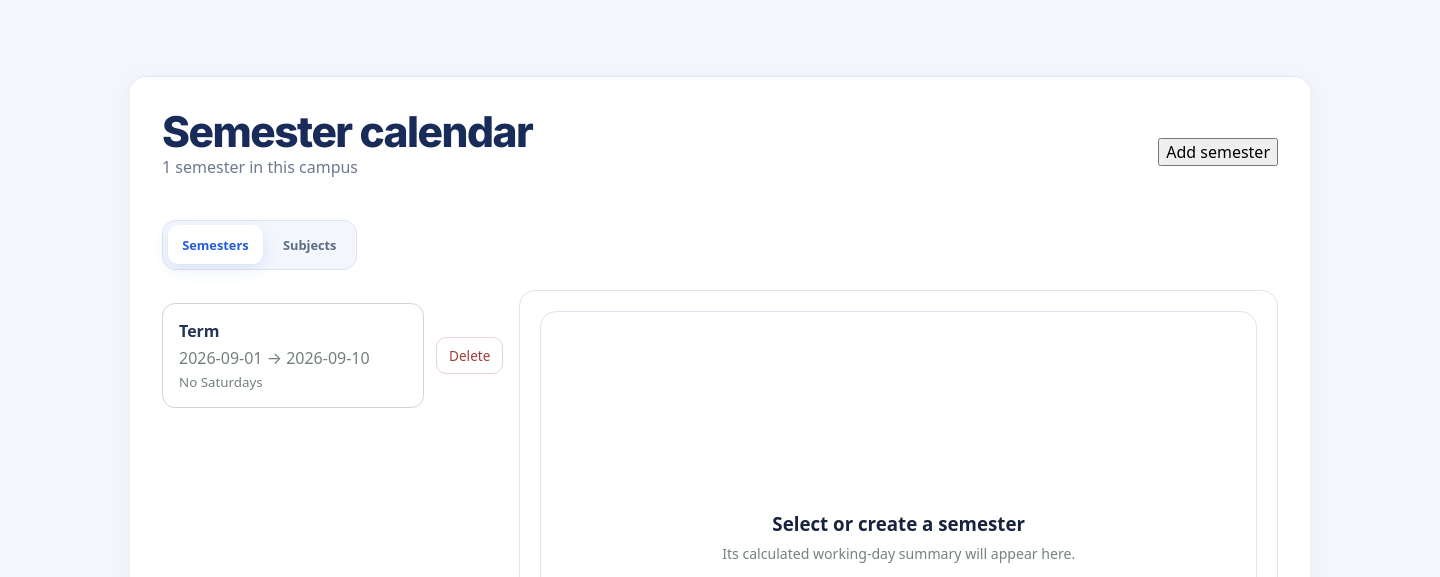
Test: shows all semester dates, including ordinary weekdays after the first eight days
Expected: the text "1 semester in this campus" is shown, 162,156 -> 358,178
Expected: the field labelled "Semester name" is not shown
Click the button "Add semester": (1218, 152) 1158,138 -> 1278,166
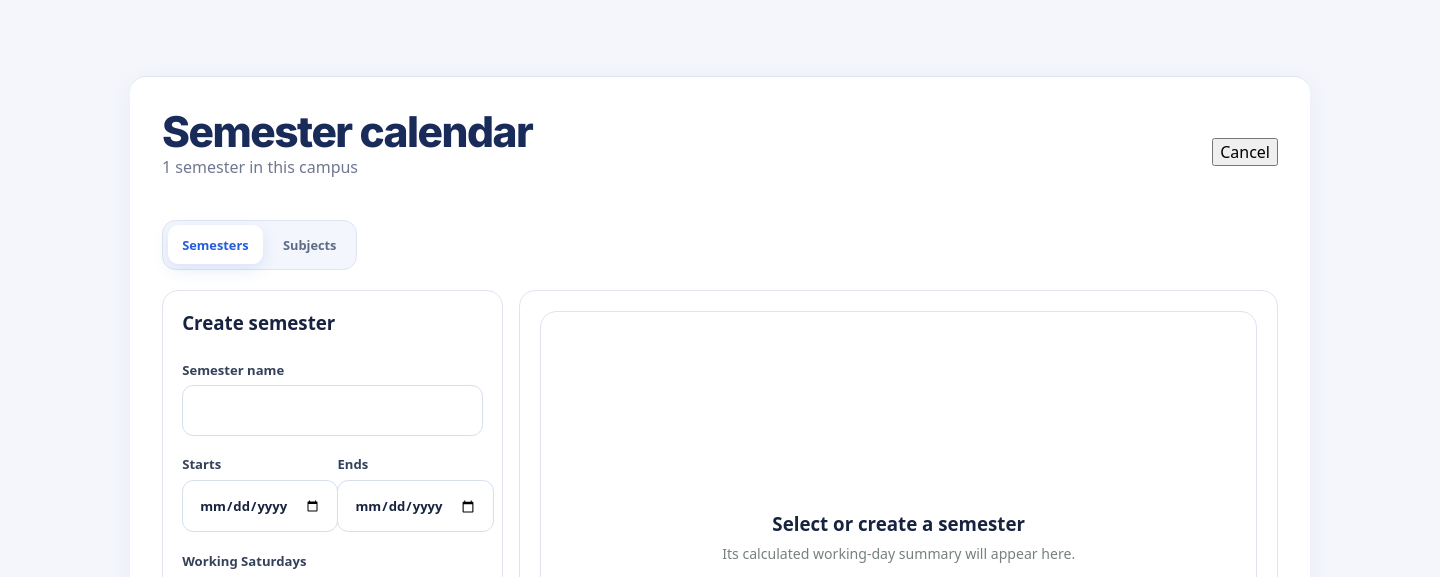
Expected: the field labelled "Semester name" is shown, 182,385 -> 483,436
Click the button "Cancel": (1245, 152) 1212,138 -> 1278,166
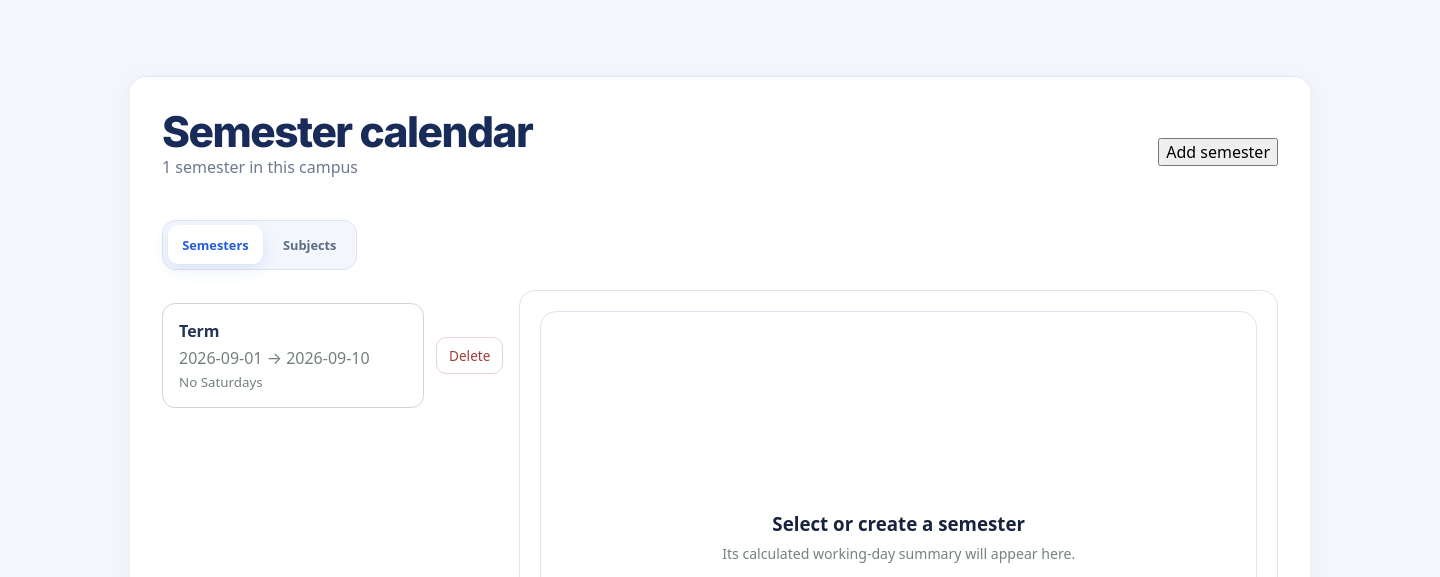
Expected: the label labelled "Semester name" is gone
Click the button "Term 2026-09-01 → 2026-09-10 No Saturdays": (293, 356) 162,303 -> 424,408
(page scrolled)
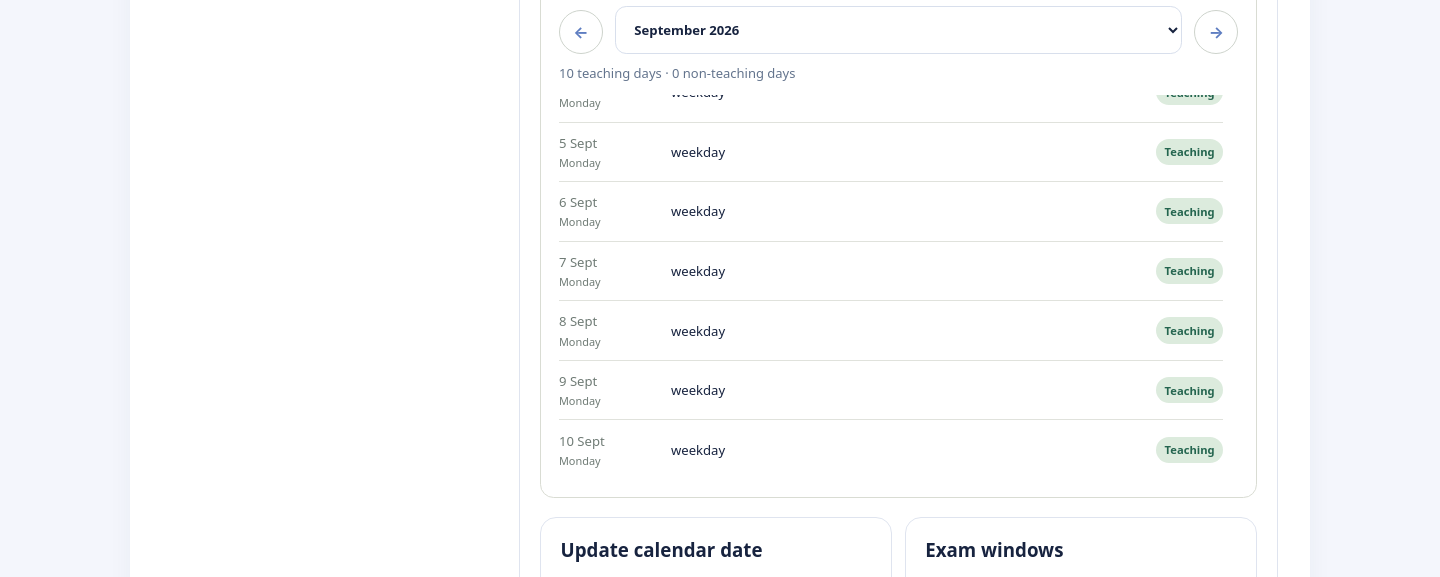
Expected: the element named "All semester dates" is shown, 559,95 -> 1238,479
Expected: the element showing "10 Sept monday" is shown, 559,432 -> 605,468
